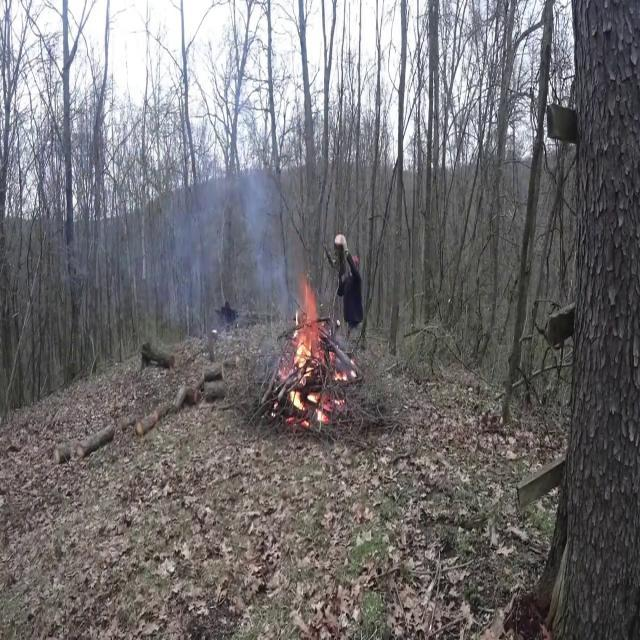Fire: (285, 266, 327, 426), (290, 270, 326, 380)
